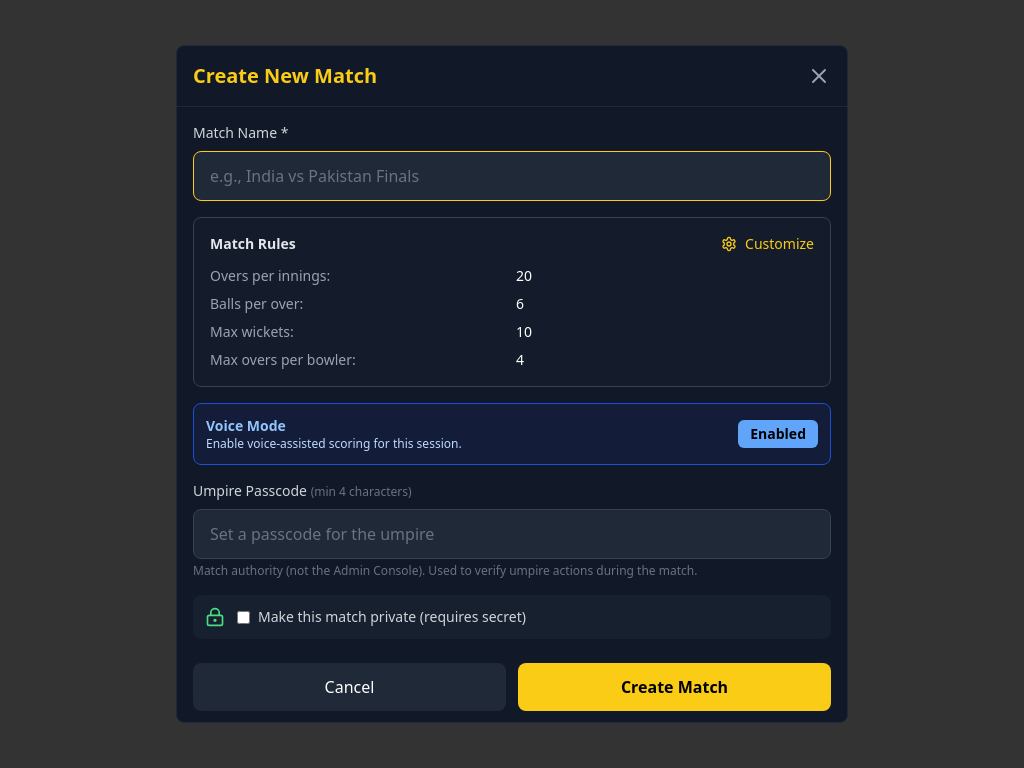
Test case: CreateMatchModal › shows user-friendly error message when create fails
Expected: the heading "Create New Match" is shown, [193,62,377,90]
In the field with placeholder "e.g., India vs Pakistan Finals": point(512, 176) [193,151,831,201], type "Error Match"
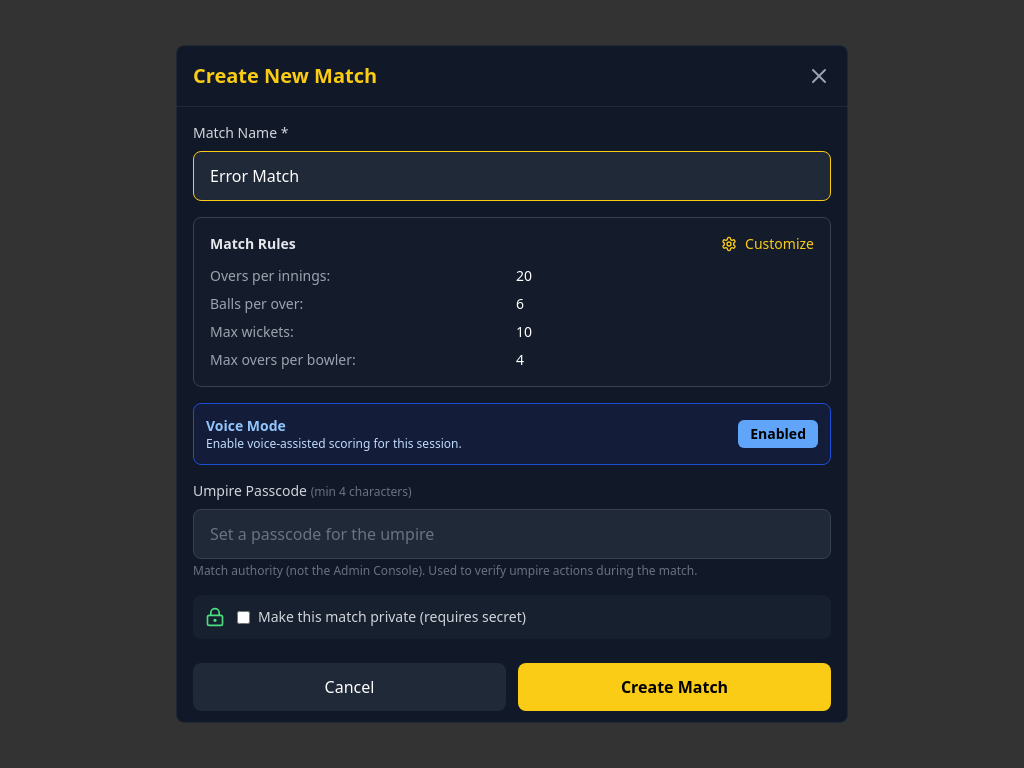
In the password field with placeholder "Set a passcode for the umpire": point(512, 534) [193,509,831,559], type "1234"
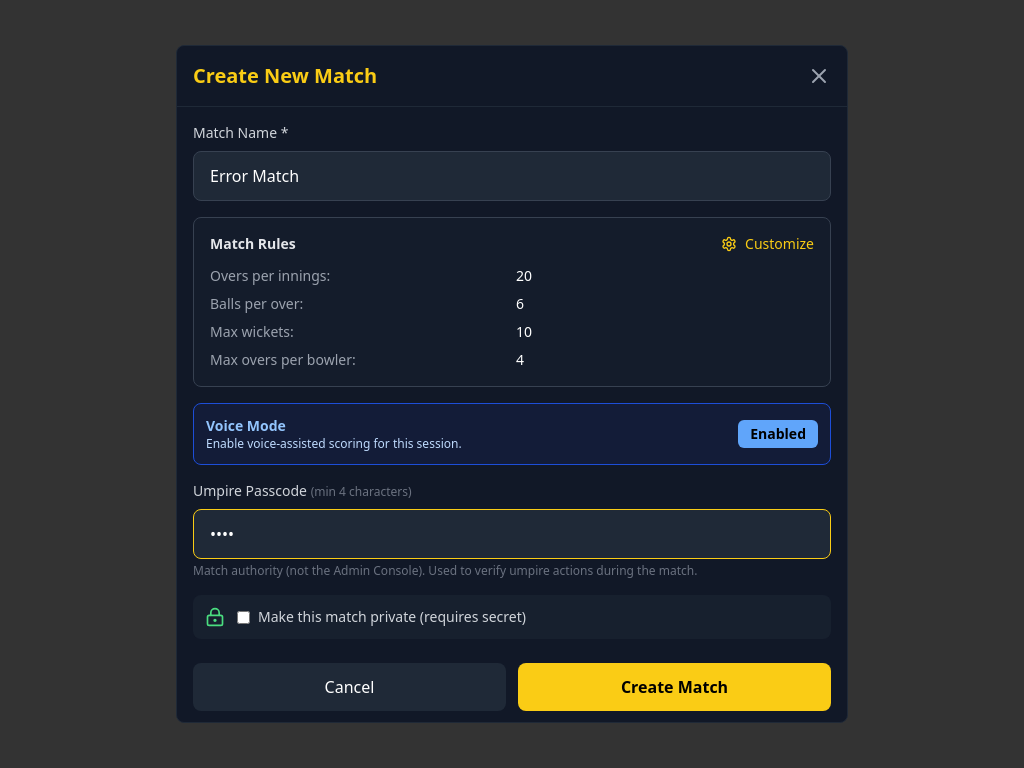
Click the button "Create Match": point(674, 687) [518,663,831,711]
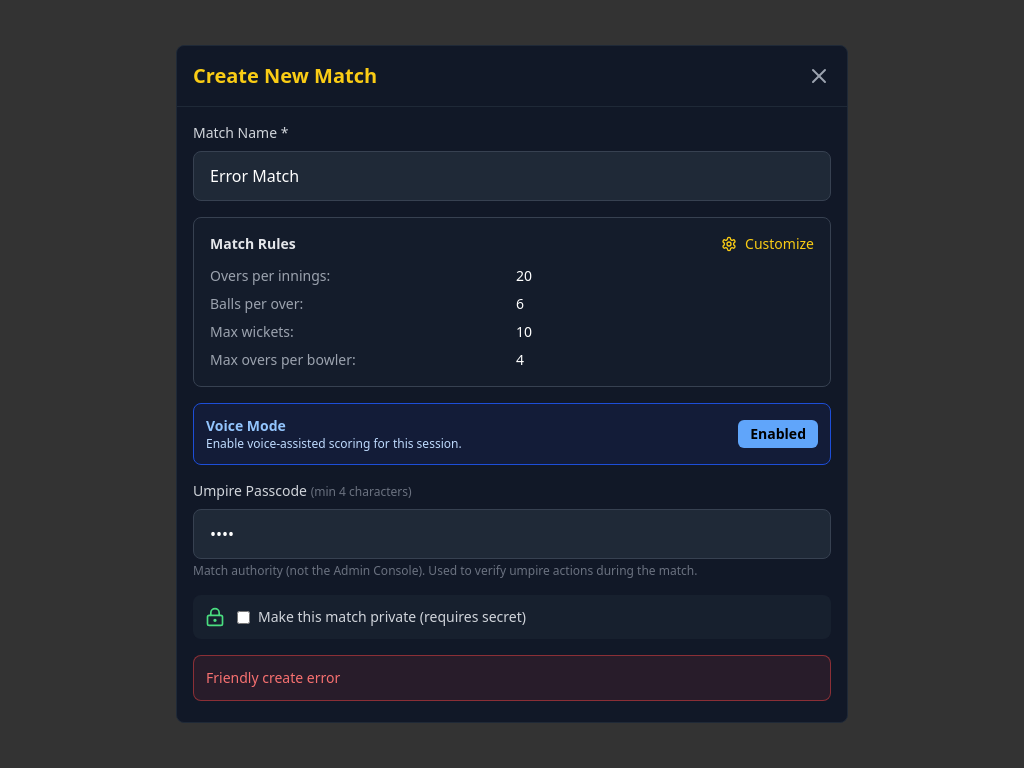
Expected: the text "Friendly create error" is shown, [206,668,340,687]
